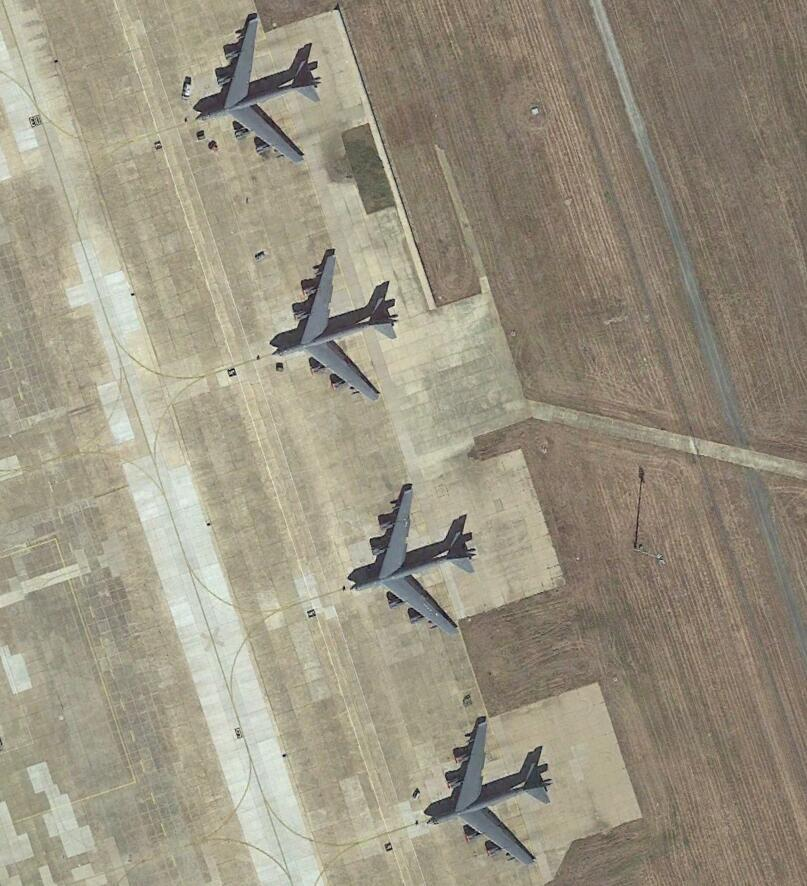A8: (182, 12, 333, 166), (415, 712, 560, 870), (264, 249, 406, 405), (346, 476, 482, 638)
